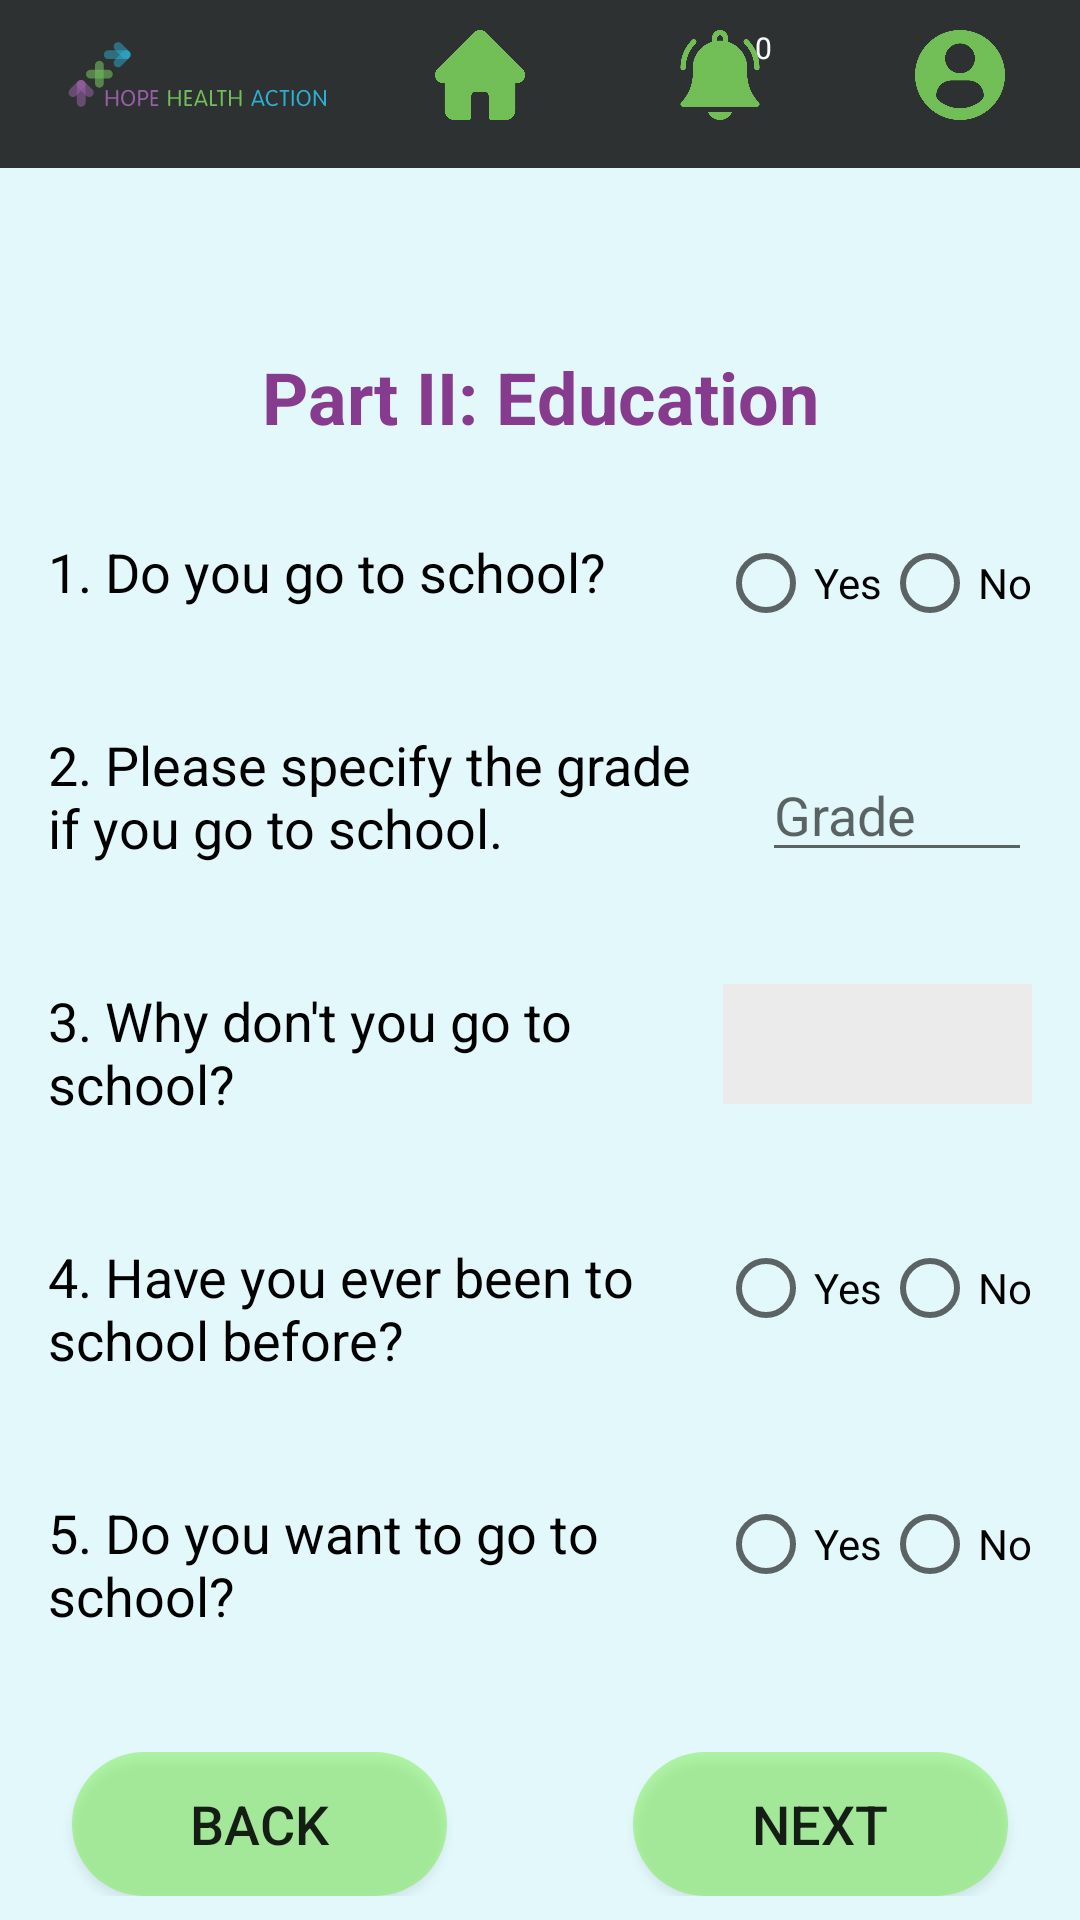

Locate icon controls on the screen. Image size 1080w x 1920h, boxes as (x1, y1, x2, y2).
bell: (680, 30, 771, 120)
home: (435, 30, 525, 120)
profile taskbar: (915, 30, 1005, 120)
